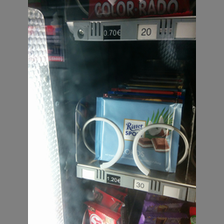chocolate: (93, 97, 180, 172)
